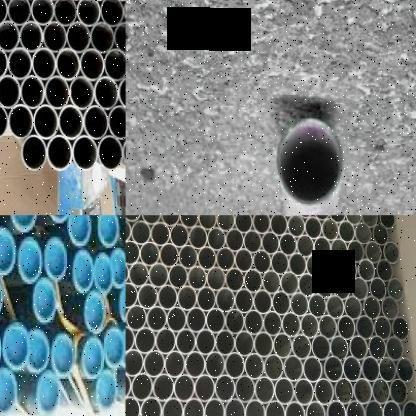pipe: (278, 116, 343, 208), (58, 105, 84, 141), (84, 105, 110, 141), (21, 136, 47, 172), (46, 136, 72, 172), (72, 136, 98, 172), (33, 105, 59, 140), (8, 105, 34, 140), (69, 76, 95, 110), (44, 76, 70, 110), (20, 75, 45, 110), (98, 136, 122, 172), (93, 76, 118, 110), (80, 48, 104, 82), (56, 48, 80, 82), (66, 22, 92, 53), (42, 22, 68, 53), (90, 22, 115, 54), (32, 48, 56, 81), (8, 48, 32, 81), (19, 21, 43, 53), (104, 48, 126, 82), (0, 75, 21, 110), (130, 372, 154, 402), (53, 0, 78, 27), (100, 0, 124, 28), (107, 105, 126, 140), (7, 0, 31, 27), (77, 0, 101, 27), (173, 374, 196, 402), (0, 20, 20, 52), (194, 374, 216, 403), (235, 374, 256, 404), (30, 0, 54, 26), (302, 356, 324, 384), (164, 350, 186, 378), (126, 304, 148, 332), (184, 351, 206, 379), (152, 374, 174, 402), (144, 350, 166, 378), (204, 351, 226, 379), (134, 327, 156, 354), (146, 306, 168, 333), (274, 378, 295, 406), (294, 378, 315, 406), (224, 352, 245, 380), (214, 374, 235, 402), (254, 376, 275, 404), (176, 328, 197, 356), (283, 354, 304, 382), (128, 262, 150, 288), (148, 262, 170, 288), (245, 353, 266, 380), (215, 330, 236, 357), (156, 328, 177, 355), (264, 354, 284, 382), (314, 378, 334, 406), (186, 306, 206, 334), (235, 330, 255, 358), (130, 220, 152, 245), (196, 286, 217, 312), (205, 308, 226, 334), (138, 284, 159, 310), (166, 306, 187, 332), (292, 334, 312, 361), (254, 332, 274, 359), (342, 355, 362, 382), (323, 355, 343, 382), (353, 378, 373, 405), (334, 378, 354, 405), (196, 329, 216, 356), (159, 243, 180, 268), (167, 264, 188, 289), (150, 222, 171, 247), (300, 314, 320, 340), (311, 335, 331, 361), (272, 333, 292, 359), (178, 285, 198, 311), (187, 265, 207, 291), (216, 287, 236, 313), (140, 242, 160, 268), (226, 309, 246, 335), (272, 290, 292, 316), (158, 284, 178, 310), (263, 311, 283, 337), (361, 356, 380, 383), (126, 349, 144, 377), (206, 266, 226, 291), (178, 245, 198, 270), (298, 272, 317, 298), (282, 312, 301, 338), (235, 288, 254, 314), (349, 335, 368, 361), (389, 379, 408, 405), (378, 356, 396, 383), (262, 270, 282, 294), (252, 250, 272, 274), (330, 336, 350, 360), (336, 316, 356, 340), (188, 226, 208, 250), (170, 224, 190, 248), (343, 296, 363, 320), (368, 277, 388, 301), (308, 294, 327, 319), (290, 292, 309, 317), (386, 336, 404, 362), (368, 335, 386, 361), (245, 310, 263, 336), (372, 378, 390, 404), (296, 234, 315, 258), (350, 277, 369, 301), (198, 246, 217, 270), (326, 295, 344, 320), (281, 271, 299, 296), (319, 315, 337, 340), (244, 269, 262, 294), (217, 247, 235, 272), (208, 226, 226, 251), (363, 296, 381, 321), (140, 396, 162, 416), (304, 217, 323, 240), (330, 238, 349, 261), (254, 290, 272, 314), (271, 251, 289, 275), (316, 275, 334, 299), (333, 276, 351, 300), (226, 268, 244, 292), (323, 256, 341, 280), (306, 254, 324, 278), (314, 236, 332, 260), (374, 316, 392, 340), (244, 230, 262, 254), (396, 358, 414, 382), (226, 228, 244, 252), (387, 278, 405, 302), (288, 252, 306, 276), (356, 316, 374, 340), (380, 296, 398, 320), (340, 258, 358, 282), (287, 215, 305, 238), (280, 233, 298, 256), (322, 218, 340, 241), (235, 249, 253, 272), (358, 259, 376, 282), (365, 241, 383, 264), (113, 22, 126, 53), (392, 316, 408, 341), (262, 232, 280, 254), (162, 398, 184, 416), (348, 240, 366, 262), (372, 224, 390, 246), (376, 260, 394, 282), (354, 222, 372, 244), (270, 215, 288, 236), (224, 398, 245, 416), (203, 398, 224, 416), (183, 398, 204, 416), (339, 220, 355, 243), (252, 215, 270, 235), (384, 242, 400, 264), (126, 240, 140, 265), (325, 399, 345, 416), (245, 399, 265, 416), (304, 400, 325, 416), (264, 400, 285, 416), (235, 215, 253, 233), (364, 399, 383, 416), (345, 399, 364, 416), (126, 282, 138, 308), (285, 400, 304, 416), (216, 216, 235, 232), (0, 104, 8, 140), (383, 400, 401, 416), (179, 215, 199, 229), (126, 396, 140, 416), (126, 326, 136, 354), (118, 76, 126, 110), (198, 216, 217, 230), (0, 48, 8, 80), (378, 215, 396, 229), (401, 400, 416, 416), (160, 215, 180, 227), (141, 215, 162, 225), (0, 0, 8, 26), (361, 216, 378, 228), (126, 372, 132, 401), (344, 216, 362, 225), (328, 216, 346, 223), (126, 216, 142, 223), (126, 218, 130, 243), (313, 216, 330, 221)
